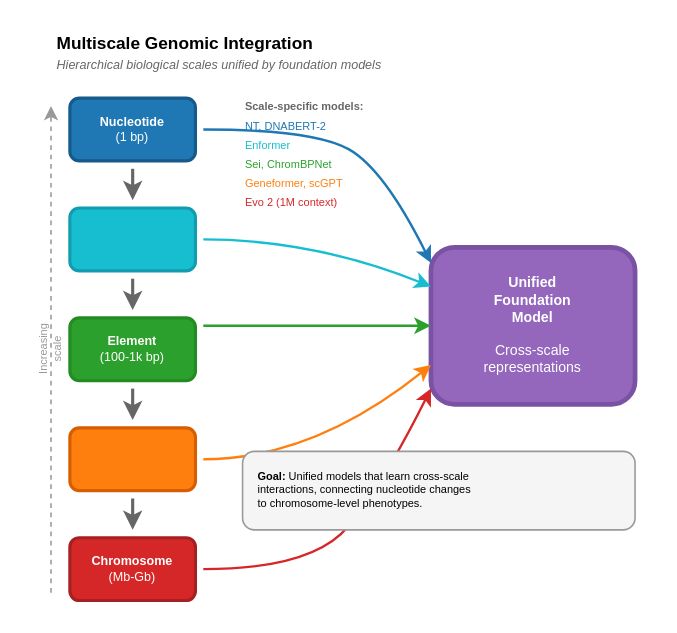
Image size: 677x633. Some labels were removed from this diagram. Each missing label, with the centre of its shape:
Gene (1-100 kb): the point at 132,458
Motif (6-20 bp): the point at 132,239
